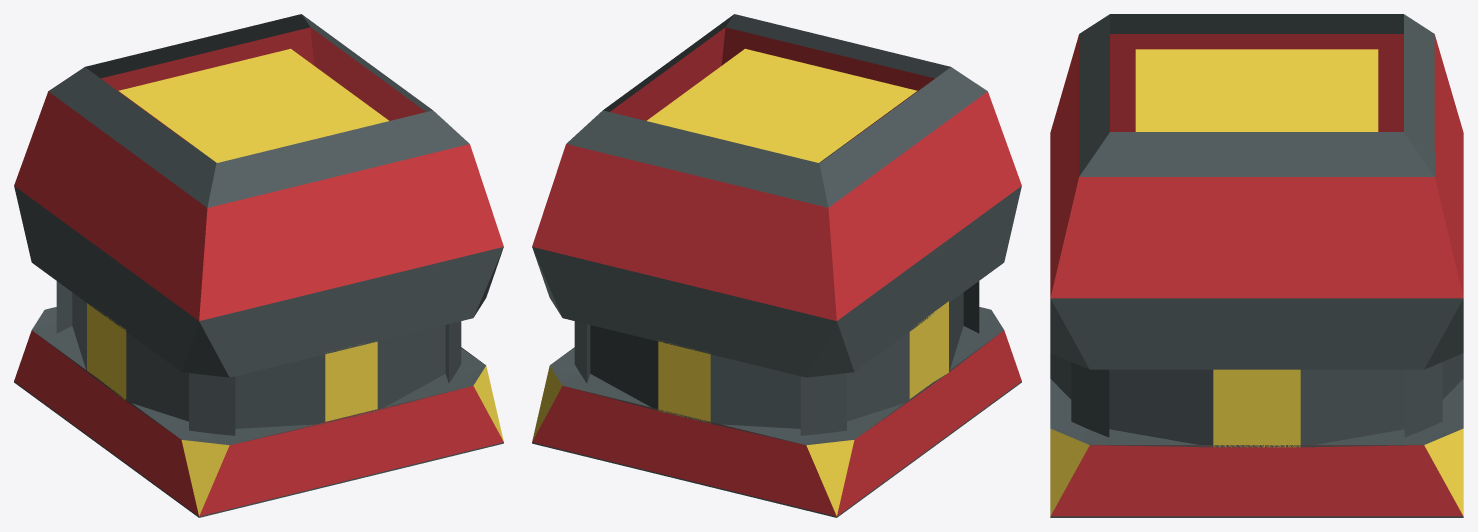
The model's file is tower_red.glb.
The picture shows the model from 3 angles, left to right: view 1: azimuth 30°, elevation 25°; view 2: azimuth 150°, elevation 25°; view 3: azimuth 270°, elevation 25°; orthographic projection. The views are drawn at different scales.
Parts seen in each view (by area): view 1: Cube-col; view 2: Cube-col; view 3: Cube-col.
Part boxes in pixels (<box>): Cube-col: <box>14,14,503,517</box>; Cube-col: <box>532,14,1021,517</box>; Cube-col: <box>1050,14,1463,517</box>.
Size of the model in its own units: 8.43 by 8.58 by 8.87.
